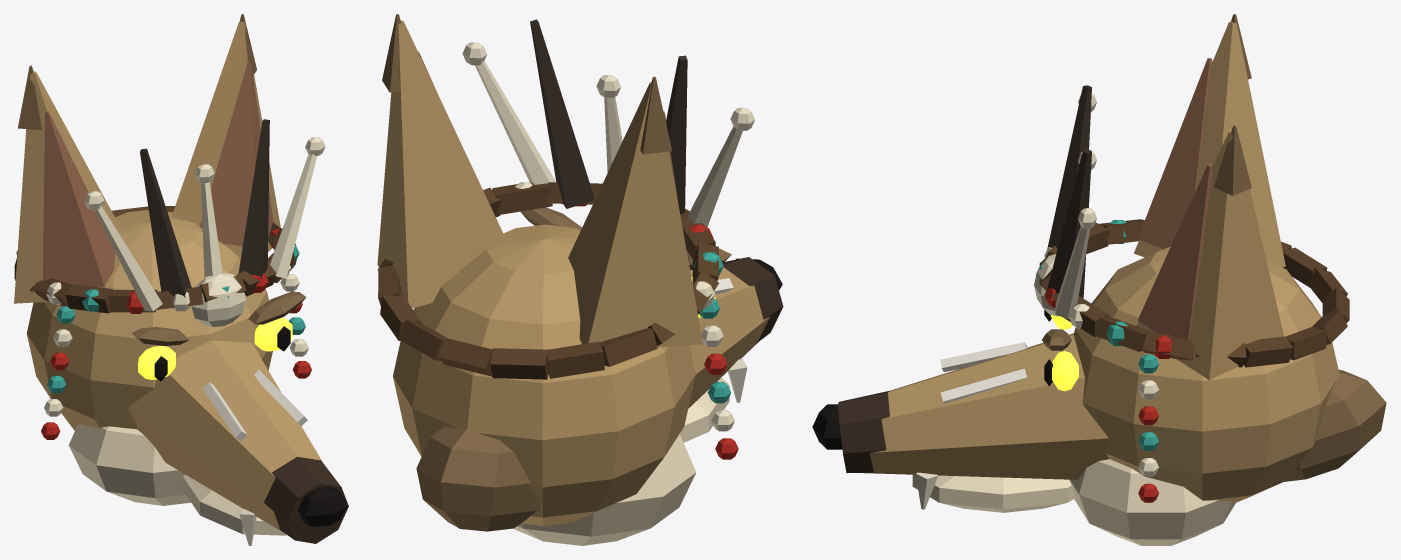
Rendered from dustpaw_shaman_head.glb.
3 views of the same model, side by side, from view 1: azimuth 30°, elevation 25°; view 2: azimuth 150°, elevation 25°; view 3: azimuth 270°, elevation 25° (orthographic). The views are drawn at different scales.
Visible parts, largest first — view 1: dustpaw_shaman_head; view 2: dustpaw_shaman_head; view 3: dustpaw_shaman_head.
Boxes of the visible parts, x1=… form: dustpaw_shaman_head: x1=14, y1=14, x2=348, y2=545; dustpaw_shaman_head: x1=377, y1=14, x2=783, y2=545; dustpaw_shaman_head: x1=812, y1=14, x2=1386, y2=545.
Size of the model in its own units: 0.8752 by 1.33 by 1.5.
